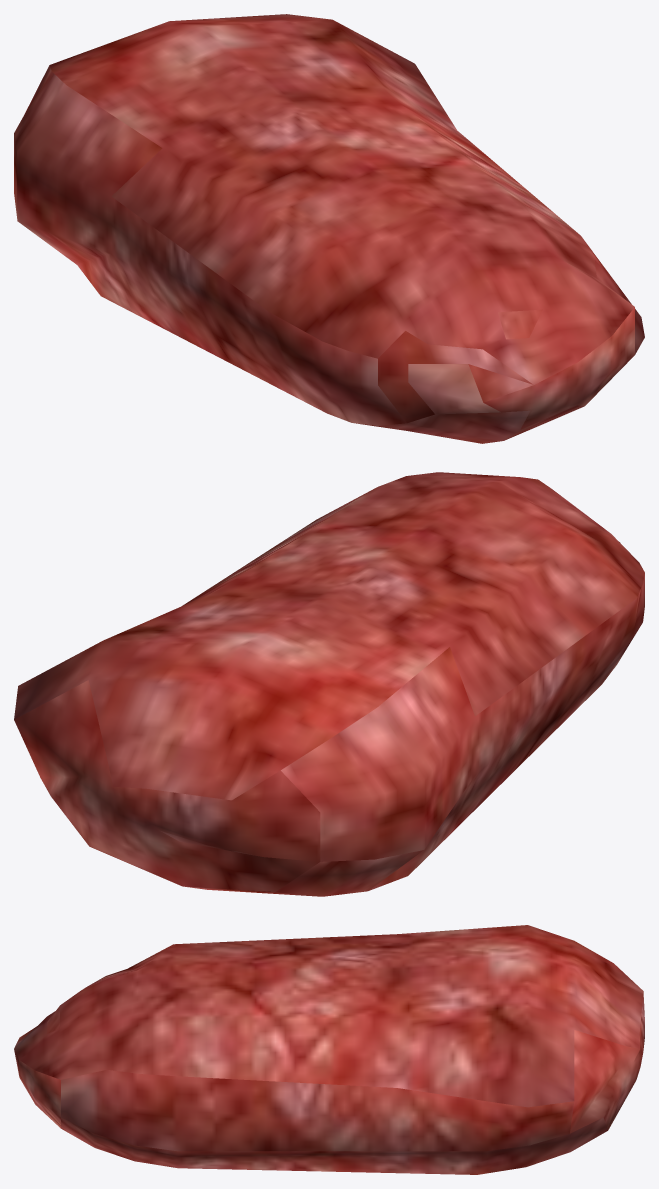
Rendered from gib1.glb.
3 views of the same model, one above another, from view 1: azimuth 30°, elevation 25°; view 2: azimuth 150°, elevation 25°; view 3: azimuth 270°, elevation 25° (orthographic). The views are drawn at different scales.
Parts seen in each view (by area): view 1: Sphere; view 2: Sphere; view 3: Sphere.
Part boxes in pixels (<box>): Sphere: <box>14,14,644,443</box>; Sphere: <box>14,472,644,896</box>; Sphere: <box>14,925,644,1174</box>.
Size of the model in its own units: 0.5096 by 0.292 by 0.9039.
1 material, 1 textured.
